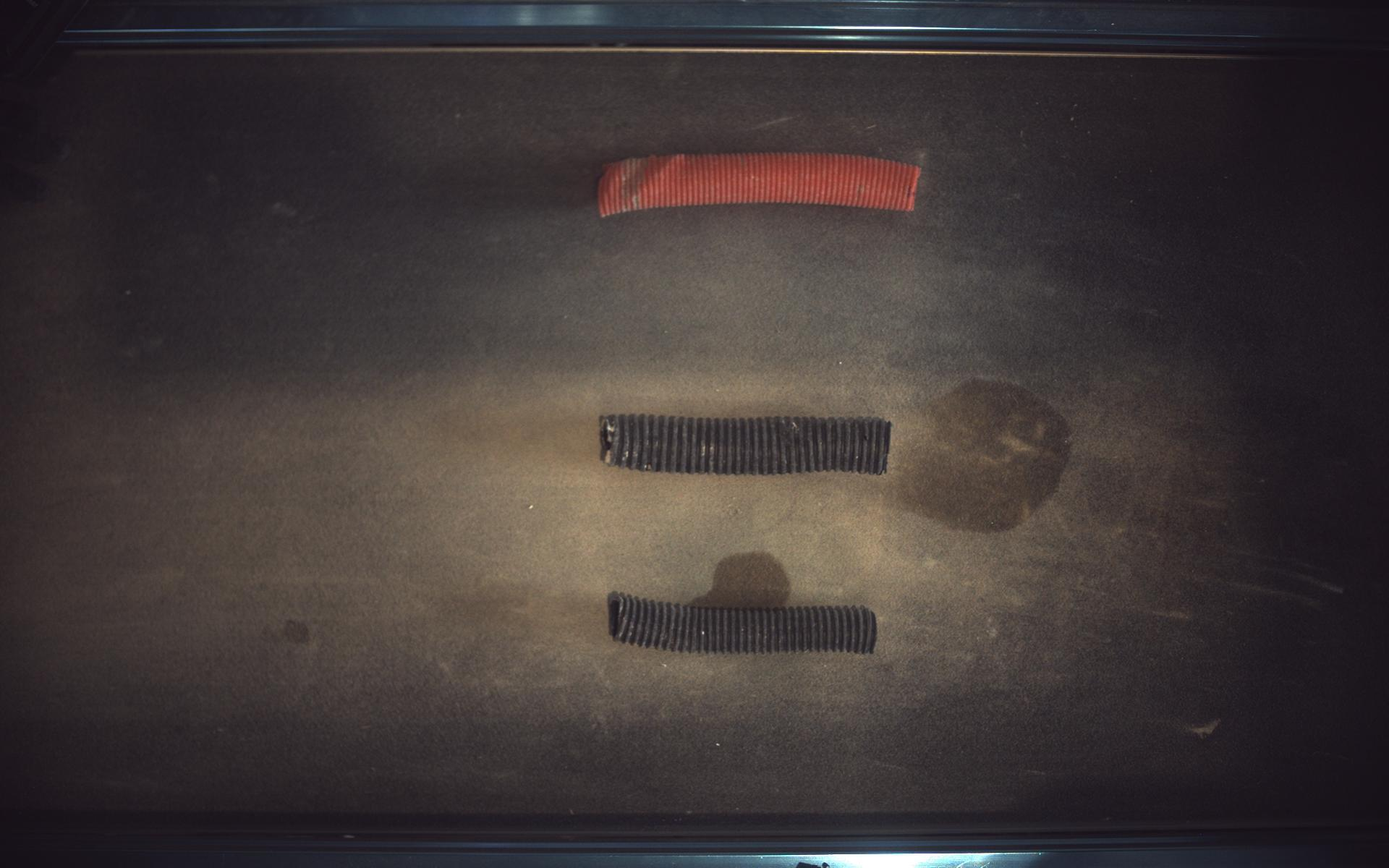pipes: (598, 153, 922, 216), (600, 414, 893, 475), (608, 592, 878, 655)
